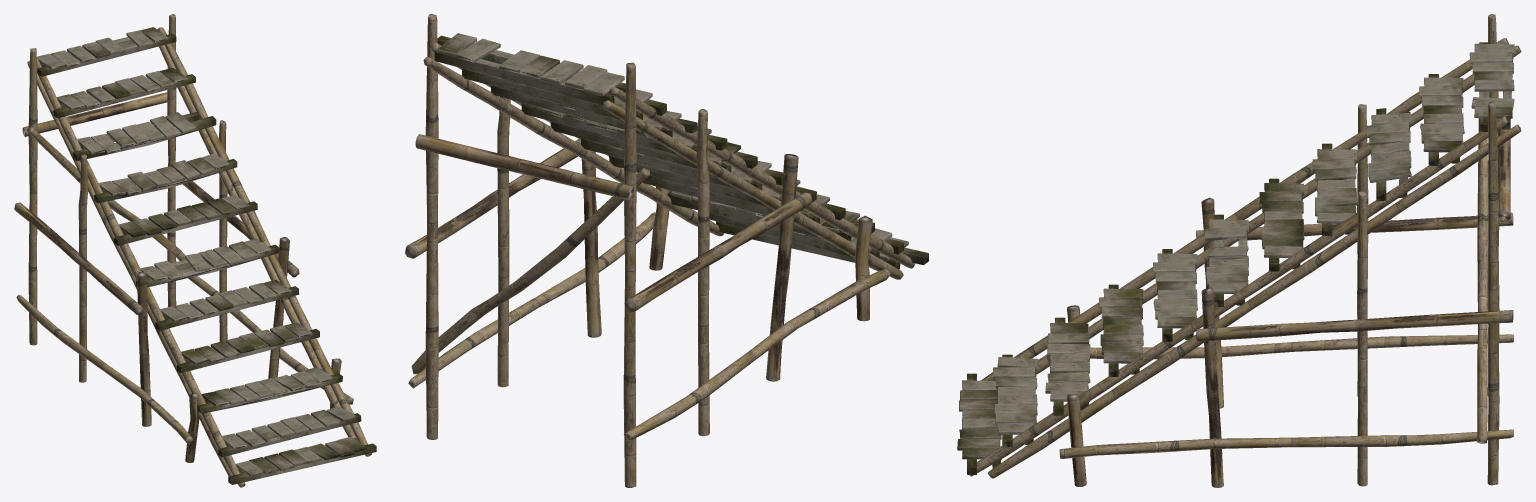
Rendered from jungle_scaffolding_stairs_600x400.glb.
3 views of the same model, side by side, from view 1: azimuth 30°, elevation 25°; view 2: azimuth 150°, elevation 25°; view 3: azimuth 270°, elevation 25° (orthographic). The views are drawn at different scales.
Visible parts, largest first — view 1: jungle_scaffolding_stairs_600x400; view 2: jungle_scaffolding_stairs_600x400; view 3: jungle_scaffolding_stairs_600x400.
Boxes of the visible parts, x1=… form: jungle_scaffolding_stairs_600x400: x1=14, y1=14, x2=376, y2=487; jungle_scaffolding_stairs_600x400: x1=405, y1=14, x2=928, y2=487; jungle_scaffolding_stairs_600x400: x1=957, y1=14, x2=1521, y2=487.
Size of the model in its own units: 2.73 by 4.53 by 5.99.
Materials: 1 (1 with a texture image).
